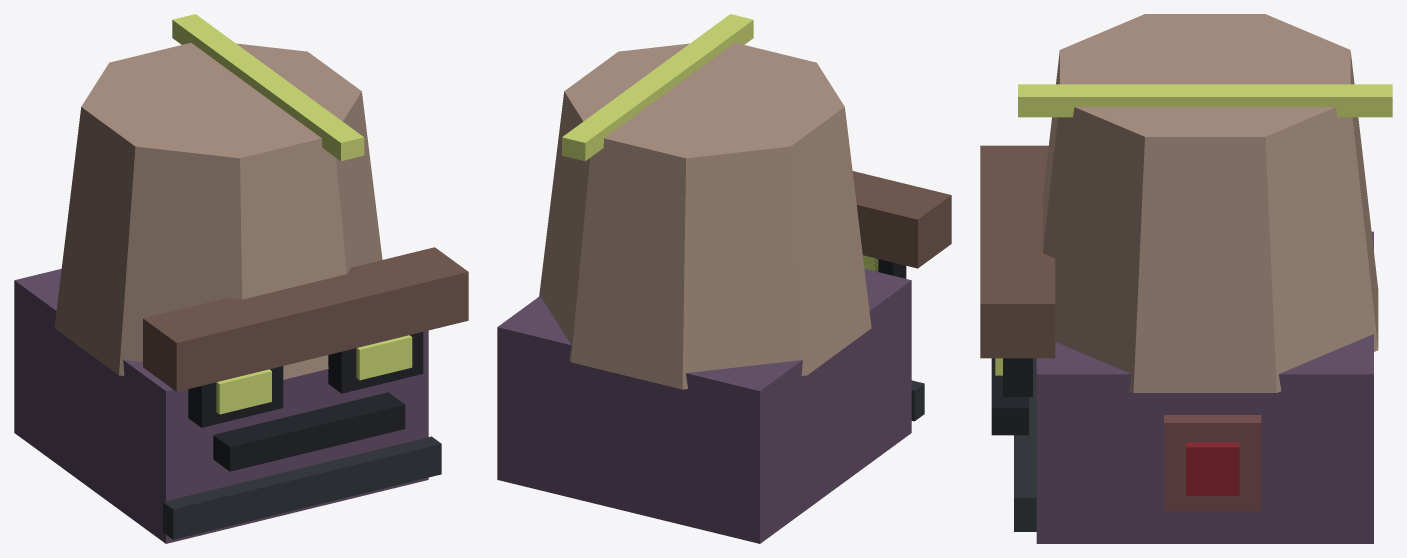
Rendered from inf_warden_head.fbx.
3 renders of one model, left to right at view 1: azimuth 30°, elevation 25°; view 2: azimuth 150°, elevation 25°; view 3: azimuth 270°, elevation 25°, orthographic. The views are drawn at different scales.
Parts seen in each view (by area): view 1: inf_warden_head; view 2: inf_warden_head; view 3: inf_warden_head.
Boxes of the visible parts, x1,y1,x2,y2 form: inf_warden_head: (14,14,468,543); inf_warden_head: (497,14,951,543); inf_warden_head: (980,14,1392,543).
Size of the model in its own units: 103 by 120 by 110.
